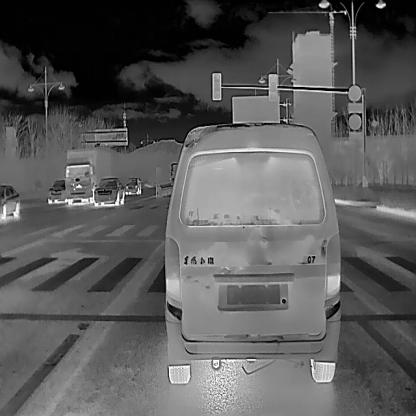car: (164, 118, 342, 384), (92, 175, 124, 204), (0, 184, 21, 218), (46, 178, 66, 202), (125, 176, 140, 192)
truck: (65, 148, 114, 202)
